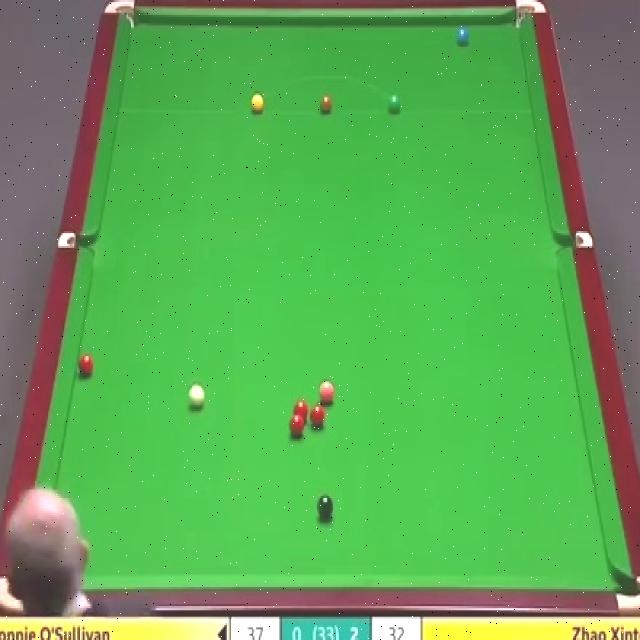black-ball: (316, 492, 334, 522)
blue-ball: (456, 24, 470, 45)
brown-ball: (319, 95, 333, 113)
green-ball: (387, 91, 402, 116)
pink-ball: (318, 380, 335, 404)
red-ball: (78, 353, 94, 377), (289, 414, 306, 436), (311, 406, 327, 428), (294, 399, 308, 424)
white-ball: (187, 384, 206, 411)
yellow-ball: (250, 92, 264, 114)
